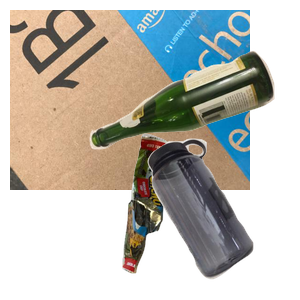cardboard: (10, 10, 250, 190)
glass: (87, 48, 300, 190)
plastic: (145, 136, 300, 300)
trash: (120, 131, 290, 300)
